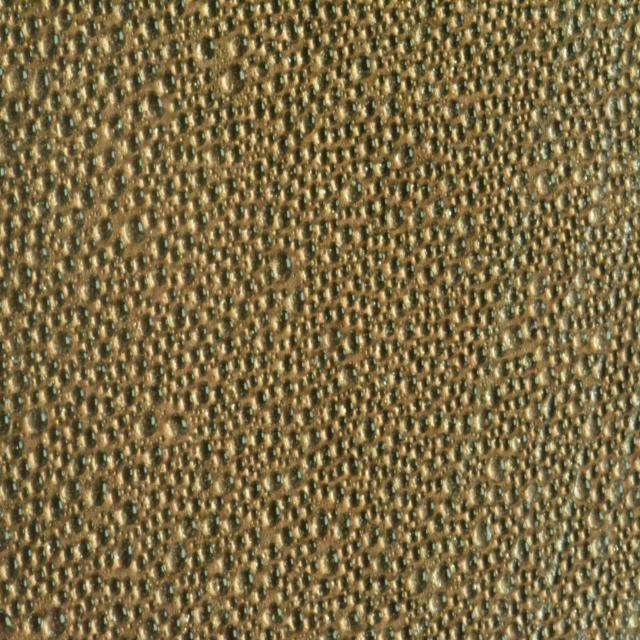dr: (222, 63, 247, 94), (28, 406, 50, 436), (235, 568, 255, 600), (124, 215, 146, 244), (432, 561, 453, 590), (169, 542, 188, 574), (320, 545, 340, 575), (43, 26, 61, 59), (312, 507, 330, 540), (274, 250, 292, 283), (9, 64, 30, 92), (409, 565, 429, 594), (574, 469, 592, 501), (91, 476, 110, 506), (48, 606, 67, 636), (489, 452, 506, 484), (8, 288, 26, 318), (120, 499, 140, 526), (474, 518, 492, 548), (504, 323, 524, 350), (537, 168, 556, 196), (593, 325, 612, 352), (34, 69, 50, 101), (49, 491, 65, 523), (117, 537, 133, 569), (586, 407, 602, 439), (148, 90, 165, 120), (289, 285, 306, 315), (523, 482, 545, 505), (110, 168, 128, 196), (398, 142, 416, 170), (0, 607, 15, 640), (233, 375, 252, 401), (340, 362, 359, 388), (108, 25, 126, 52), (106, 113, 124, 140), (266, 601, 284, 628), (354, 52, 372, 79), (264, 470, 284, 494), (85, 274, 102, 302), (53, 330, 72, 355), (64, 475, 83, 500), (28, 609, 47, 634), (103, 62, 121, 88), (181, 514, 199, 540), (592, 532, 610, 558), (5, 96, 21, 125), (4, 551, 20, 580), (266, 499, 282, 528), (170, 413, 190, 436), (16, 261, 33, 288), (230, 34, 249, 58), (8, 434, 26, 459), (113, 599, 131, 624), (142, 410, 158, 438), (199, 34, 215, 62), (32, 442, 49, 468), (218, 470, 235, 496), (608, 480, 625, 506), (588, 504, 605, 530), (428, 592, 448, 614), (607, 93, 622, 122), (144, 13, 160, 40), (79, 181, 95, 208), (114, 297, 130, 324), (462, 551, 480, 575), (499, 570, 517, 594), (460, 212, 478, 236), (575, 160, 591, 187), (96, 216, 113, 241), (144, 615, 161, 640), (212, 573, 229, 598), (486, 383, 503, 408), (470, 481, 487, 506), (155, 232, 170, 260), (610, 155, 629, 177), (59, 112, 75, 138), (9, 501, 25, 527), (36, 136, 53, 160), (286, 465, 303, 489), (416, 22, 433, 46), (267, 563, 282, 590), (172, 302, 187, 329), (362, 416, 377, 443), (516, 538, 531, 565), (12, 369, 28, 394), (148, 442, 164, 467), (206, 511, 222, 536), (578, 353, 594, 378), (476, 408, 494, 430), (373, 551, 391, 573), (411, 118, 425, 146), (69, 207, 86, 230), (444, 472, 461, 495), (551, 0, 568, 23), (82, 128, 98, 152), (54, 182, 70, 206), (2, 476, 18, 500), (152, 262, 168, 286), (181, 262, 197, 286), (232, 431, 248, 455), (344, 608, 360, 632), (365, 524, 381, 548), (618, 90, 634, 114), (616, 457, 632, 481), (589, 204, 608, 224), (162, 68, 176, 95), (286, 16, 300, 43), (538, 365, 556, 386), (25, 15, 40, 40), (26, 517, 41, 542), (47, 533, 62, 558), (72, 451, 87, 476), (94, 610, 109, 635), (140, 312, 155, 337), (3, 191, 18, 216), (346, 330, 361, 355), (452, 235, 467, 260), (209, 144, 226, 166), (598, 2, 615, 24), (82, 153, 98, 176), (248, 249, 264, 272), (180, 230, 196, 253), (448, 262, 464, 285), (526, 397, 542, 420), (74, 29, 88, 55), (24, 118, 37, 146), (83, 424, 97, 450), (275, 306, 289, 332), (277, 204, 291, 230), (545, 392, 558, 420), (558, 186, 572, 212), (126, 130, 141, 154), (36, 196, 51, 220), (94, 447, 109, 471), (196, 440, 214, 460), (167, 614, 182, 638), (181, 389, 196, 413), (336, 514, 351, 538), (347, 178, 362, 202), (421, 497, 436, 521), (467, 248, 482, 272), (488, 280, 503, 304), (32, 243, 49, 264), (68, 512, 85, 533), (419, 265, 436, 286), (10, 25, 26, 47), (150, 384, 166, 406), (472, 345, 488, 367), (505, 484, 521, 506), (96, 522, 110, 547), (390, 204, 404, 229), (464, 105, 478, 130), (58, 8, 73, 31), (143, 61, 158, 84), (102, 146, 117, 169), (159, 581, 174, 604), (199, 600, 214, 623), (431, 197, 446, 220), (440, 222, 455, 245), (581, 47, 596, 70), (442, 174, 459, 194), (592, 183, 609, 203), (118, 0, 134, 21), (40, 109, 54, 133), (66, 233, 82, 254), (30, 470, 44, 494), (94, 360, 108, 384), (201, 540, 215, 564), (199, 468, 213, 492), (196, 380, 210, 404), (290, 606, 304, 630), (204, 182, 220, 203), (261, 203, 275, 227), (384, 479, 398, 503), (506, 53, 520, 77), (476, 597, 492, 618), (534, 102, 550, 123), (525, 316, 539, 340), (597, 353, 609, 381), (604, 417, 620, 438), (576, 269, 592, 290), (149, 140, 164, 162), (10, 392, 25, 414), (221, 550, 236, 572), (240, 404, 255, 426), (193, 166, 208, 188), (174, 112, 189, 134), (372, 269, 387, 291), (386, 599, 401, 621), (422, 539, 437, 561), (362, 96, 377, 118), (342, 100, 357, 122), (316, 69, 331, 91), (322, 0, 337, 22), (419, 78, 434, 100), (442, 496, 457, 518), (536, 30, 551, 52), (558, 254, 573, 276), (581, 137, 596, 159), (567, 15, 582, 37), (49, 88, 63, 111), (54, 149, 68, 172), (41, 168, 55, 191), (48, 266, 62, 289), (36, 321, 50, 344), (135, 355, 149, 378), (404, 372, 418, 395), (431, 407, 445, 430), (388, 70, 402, 93), (610, 286, 624, 309), (60, 254, 76, 274), (151, 559, 167, 579), (326, 327, 342, 347), (507, 620, 523, 640), (549, 120, 565, 140), (562, 345, 578, 365), (29, 497, 45, 517), (43, 382, 58, 403), (136, 578, 151, 599), (235, 299, 250, 320), (396, 180, 411, 201), (446, 99, 461, 120), (463, 579, 478, 600), (532, 275, 547, 296), (578, 540, 593, 561), (15, 231, 28, 255), (9, 597, 22, 621), (109, 572, 122, 596), (217, 358, 230, 382), (515, 429, 528, 453), (560, 155, 573, 179), (1, 580, 13, 606), (129, 100, 143, 122), (17, 181, 31, 203), (102, 395, 116, 417), (69, 418, 83, 440), (152, 362, 166, 384), (2, 216, 16, 238), (194, 284, 208, 306), (320, 45, 334, 67), (327, 241, 341, 263), (346, 454, 360, 476), (375, 338, 389, 360), (401, 319, 415, 341), (383, 528, 397, 550), (440, 318, 454, 340), (458, 414, 472, 436), (482, 304, 496, 326), (527, 508, 541, 530), (622, 45, 636, 67), (16, 572, 30, 594), (560, 365, 576, 384), (97, 340, 112, 360), (226, 513, 241, 533), (452, 439, 464, 464), (478, 264, 493, 284), (544, 480, 559, 500), (488, 484, 503, 504), (615, 612, 630, 632), (112, 446, 125, 469), (192, 104, 205, 127), (303, 111, 316, 134), (549, 563, 562, 586), (625, 433, 638, 456), (74, 578, 88, 599), (268, 426, 282, 447), (218, 267, 232, 288), (264, 288, 278, 309), (272, 72, 286, 93), (412, 205, 426, 226), (407, 287, 421, 308), (456, 304, 470, 325), (450, 535, 464, 556), (434, 255, 448, 276), (524, 146, 538, 167), (578, 566, 592, 587), (77, 303, 89, 327), (465, 382, 477, 406), (535, 343, 551, 361), (84, 78, 97, 100), (112, 84, 125, 106), (103, 548, 116, 570), (248, 526, 261, 548), (163, 12, 176, 34), (227, 120, 240, 142), (369, 296, 382, 318), (402, 34, 415, 56), (559, 614, 572, 636), (206, 0, 221, 19), (362, 621, 377, 640), (378, 625, 397, 640), (385, 98, 400, 117), (567, 290, 582, 309), (609, 24, 624, 43), (610, 41, 625, 60), (95, 248, 109, 268), (132, 186, 146, 206), (206, 401, 220, 421), (300, 406, 314, 426), (221, 316, 235, 336), (290, 146, 304, 166), (340, 223, 354, 243), (455, 76, 469, 96), (410, 228, 424, 248), (440, 296, 454, 316), (432, 337, 446, 357), (376, 574, 390, 594), (496, 598, 510, 618), (483, 132, 497, 152), (542, 80, 556, 100), (496, 358, 510, 378), (562, 310, 576, 330), (581, 3, 595, 23), (626, 488, 640, 508), (626, 172, 640, 192), (87, 393, 99, 416), (78, 536, 90, 559), (124, 383, 136, 406), (270, 401, 282, 424), (254, 97, 266, 120), (540, 600, 552, 623), (537, 440, 549, 463), (579, 443, 591, 466), (48, 425, 61, 446), (1, 239, 14, 260), (261, 329, 274, 350), (309, 387, 322, 408), (326, 399, 339, 420), (195, 211, 208, 232), (177, 167, 190, 188), (625, 22, 638, 43), (287, 430, 302, 448), (389, 430, 404, 448), (500, 304, 515, 322), (532, 299, 547, 317), (522, 352, 537, 370), (5, 139, 19, 158), (18, 207, 32, 226), (33, 223, 47, 242), (44, 358, 58, 377), (118, 328, 132, 347), (112, 238, 126, 257), (55, 586, 69, 605), (307, 427, 321, 446), (256, 59, 270, 78), (241, 1, 255, 20), (328, 86, 342, 105), (354, 2, 368, 21), (592, 483, 606, 502), (601, 456, 615, 475), (536, 4, 550, 23), (620, 509, 634, 528), (34, 545, 48, 564), (132, 154, 144, 176), (90, 572, 102, 594), (189, 344, 201, 366), (334, 482, 346, 504), (394, 296, 406, 318), (438, 21, 450, 43), (360, 547, 372, 569), (518, 166, 530, 188), (20, 544, 32, 566), (23, 347, 36, 367), (122, 464, 135, 484), (222, 336, 235, 356), (162, 178, 175, 198), (171, 142, 184, 162), (363, 134, 376, 154), (418, 414, 431, 434), (453, 122, 466, 142), (461, 147, 474, 167), (428, 222, 441, 242), (491, 546, 504, 566), (454, 620, 467, 640), (479, 435, 492, 455), (516, 584, 529, 604), (542, 140, 555, 160), (522, 187, 535, 207), (599, 163, 612, 183), (565, 498, 578, 518), (223, 623, 239, 639), (436, 81, 451, 98), (569, 398, 584, 415), (10, 332, 22, 353), (280, 526, 294, 544), (266, 542, 280, 560), (241, 280, 255, 298), (167, 39, 181, 57), (384, 317, 396, 338), (424, 458, 438, 476), (380, 157, 392, 178), (468, 22, 482, 40), (1, 526, 11, 551), (105, 197, 118, 216), (76, 348, 89, 367), (255, 390, 268, 409), (387, 122, 400, 141), (403, 261, 416, 280), (456, 352, 469, 371), (464, 188, 477, 207), (610, 59, 623, 78), (559, 385, 572, 404), (72, 603, 85, 622), (131, 71, 142, 93), (320, 444, 331, 466), (463, 42, 474, 64), (69, 88, 81, 108), (135, 252, 147, 272), (150, 528, 162, 548), (234, 532, 246, 552), (215, 450, 230, 466), (281, 354, 293, 374), (282, 378, 294, 398), (196, 323, 208, 343), (197, 564, 209, 584), (178, 588, 190, 608), (298, 518, 310, 538), (277, 134, 289, 154), (319, 146, 331, 166), (364, 199, 376, 219), (371, 248, 383, 268), (476, 288, 488, 308), (532, 546, 544, 566), (512, 27, 524, 47), (620, 116, 635, 132), (624, 136, 636, 156), (618, 189, 630, 209), (54, 466, 66, 486), (216, 607, 230, 624), (268, 181, 282, 198), (495, 500, 509, 517), (538, 465, 552, 482), (492, 341, 506, 358), (621, 72, 635, 89), (609, 208, 623, 225), (52, 211, 65, 229), (234, 456, 247, 474), (225, 177, 238, 195), (362, 597, 375, 615), (394, 555, 407, 573), (398, 471, 411, 489), (414, 59, 427, 77), (432, 64, 445, 82), (428, 136, 441, 154), (423, 0, 436, 18), (518, 270, 531, 288), (627, 322, 640, 340), (147, 207, 158, 228), (560, 532, 571, 553), (424, 158, 434, 181), (23, 46, 35, 65), (44, 576, 56, 595), (283, 554, 295, 573), (203, 342, 215, 361), (318, 577, 330, 596), (164, 214, 176, 233), (304, 241, 316, 260), (232, 145, 244, 164), (253, 161, 265, 180), (300, 46, 312, 65), (302, 220, 314, 239), (329, 281, 341, 300), (358, 223, 370, 242), (361, 328, 373, 347), (317, 349, 329, 368), (404, 414, 416, 433), (327, 27, 339, 46), (433, 513, 445, 532), (505, 415, 517, 434), (498, 516, 510, 535), (513, 143, 525, 162), (565, 42, 577, 61), (592, 384, 604, 403), (612, 537, 624, 556), (589, 87, 603, 103), (419, 319, 432, 336), (458, 518, 471, 535), (525, 210, 538, 227), (616, 6, 629, 23), (72, 57, 82, 79), (0, 118, 10, 140), (64, 401, 75, 421), (250, 480, 261, 500), (237, 602, 248, 622), (205, 245, 216, 265), (244, 352, 255, 372), (306, 84, 317, 104), (363, 158, 374, 178), (343, 398, 354, 418), (349, 488, 360, 508), (476, 174, 487, 194), (480, 112, 490, 134), (492, 113, 503, 133), (481, 551, 492, 571), (509, 598, 520, 618), (496, 257, 507, 277), (527, 373, 538, 393), (624, 342, 635, 362), (630, 410, 640, 432), (583, 610, 594, 630), (520, 607, 531, 627), (40, 294, 52, 312), (63, 306, 75, 324), (28, 388, 40, 406), (18, 485, 30, 503), (106, 426, 118, 444), (148, 489, 160, 507), (254, 427, 266, 445), (188, 308, 200, 326), (258, 310, 270, 328), (282, 92, 294, 110), (295, 97, 307, 115), (296, 193, 308, 211), (335, 344, 347, 362), (366, 354, 378, 372), (389, 256, 401, 274), (445, 414, 457, 432), (438, 536, 450, 554), (544, 524, 556, 542), (530, 124, 542, 142), (490, 60, 502, 78), (500, 77, 512, 95), (563, 87, 575, 105), (504, 376, 516, 394), (560, 65, 572, 83), (572, 378, 584, 396), (587, 22, 599, 40), (555, 585, 567, 603), (579, 588, 591, 606), (78, 102, 90, 120), (58, 564, 68, 585), (542, 421, 552, 442), (86, 18, 97, 37), (137, 462, 148, 481), (308, 0, 319, 19), (388, 32, 399, 51), (421, 287, 432, 306), (482, 207, 493, 226), (546, 620, 557, 639), (552, 503, 563, 522), (552, 328, 563, 347), (537, 198, 548, 217), (603, 132, 614, 151), (137, 273, 148, 292), (69, 171, 80, 190), (91, 0, 104, 16), (190, 496, 203, 512), (400, 624, 413, 640), (439, 433, 452, 449), (550, 436, 563, 452), (7, 48, 19, 65), (13, 160, 25, 177), (131, 291, 143, 308), (54, 290, 66, 307), (34, 567, 46, 584), (306, 452, 318, 469), (222, 294, 234, 311), (206, 421, 218, 438), (306, 479, 318, 496), (202, 67, 214, 84), (246, 18, 258, 35), (264, 37, 276, 54), (292, 129, 304, 146), (334, 174, 346, 191), (334, 146, 346, 163), (375, 440, 387, 457), (339, 0, 351, 17), (453, 11, 465, 28), (477, 233, 489, 250), (486, 567, 498, 584), (550, 211, 562, 228), (592, 277, 604, 294), (523, 5, 535, 22), (566, 592, 578, 609), (417, 616, 429, 633), (96, 93, 108, 110), (307, 611, 317, 631), (248, 322, 258, 342), (352, 272, 362, 292), (335, 438, 345, 458), (373, 176, 383, 196), (514, 207, 524, 227), (619, 302, 629, 322), (0, 22, 9, 44), (127, 49, 138, 67), (85, 59, 96, 77), (66, 358, 77, 376), (136, 554, 147, 572), (123, 576, 134, 594), (358, 509, 369, 527), (263, 267, 274, 285), (261, 232, 272, 250), (283, 182, 294, 200), (233, 202, 244, 220), (318, 218, 329, 236), (414, 442, 425, 460), (343, 72, 354, 90), (555, 419, 566, 437), (615, 333, 626, 351), (597, 221, 608, 239), (554, 26, 565, 44), (592, 578, 603, 596), (82, 253, 93, 271), (71, 560, 82, 578), (63, 543, 74, 561), (429, 386, 442, 401), (562, 518, 575, 533), (56, 56, 68, 72), (296, 490, 308, 506), (233, 266, 245, 282), (280, 232, 292, 248), (178, 190, 190, 206), (190, 76, 202, 92), (247, 202, 259, 218), (368, 382, 380, 398), (377, 212, 389, 228), (461, 172, 473, 188), (490, 228, 502, 244), (558, 140, 570, 156), (608, 508, 620, 524), (110, 381, 120, 400), (238, 329, 248, 348), (185, 144, 195, 163), (390, 6, 400, 25), (450, 31, 460, 50), (564, 553, 574, 572), (522, 79, 532, 98), (588, 252, 598, 271), (623, 395, 633, 414), (600, 596, 610, 615), (27, 311, 38, 328), (23, 598, 34, 615), (177, 494, 188, 511), (258, 352, 269, 369), (213, 384, 224, 401), (164, 332, 175, 349), (151, 338, 162, 355), (164, 485, 175, 502), (337, 593, 348, 610), (311, 333, 322, 350), (246, 223, 257, 240), (175, 0, 186, 17), (191, 10, 202, 27), (186, 57, 197, 74), (195, 129, 206, 146), (244, 118, 255, 135), (225, 15, 236, 32), (287, 51, 298, 68), (388, 388, 399, 405), (389, 448, 400, 465), (391, 509, 402, 526), (363, 574, 374, 591), (411, 545, 422, 562), (432, 476, 443, 493), (354, 82, 365, 99), (369, 36, 380, 53), (421, 183, 432, 200), (442, 1, 453, 18), (397, 275, 408, 292), (428, 355, 439, 372), (509, 454, 520, 471), (504, 225, 515, 242), (577, 116, 588, 133), (609, 396, 620, 413), (550, 44, 561, 61), (22, 94, 32, 112), (128, 440, 140, 455), (162, 505, 172, 523), (303, 19, 313, 37), (307, 142, 317, 160), (318, 126, 328, 144), (335, 304, 345, 322), (354, 566, 364, 584), (374, 7, 384, 25), (494, 1, 504, 19), (485, 30, 494, 50), (468, 288, 477, 308), (478, 94, 488, 112), (510, 114, 520, 132), (518, 229, 528, 247), (549, 230, 559, 248), (556, 296, 566, 314), (604, 439, 614, 457), (588, 225, 598, 243), (630, 293, 640, 311), (504, 13, 514, 31), (578, 194, 590, 209), (570, 576, 580, 594), (546, 541, 558, 556), (66, 280, 77, 296), (111, 486, 122, 502), (133, 604, 144, 620), (301, 572, 312, 588), (330, 377, 341, 393), (170, 246, 181, 262), (155, 123, 166, 139), (255, 81, 266, 97), (360, 257, 371, 273), (358, 294, 369, 310), (316, 288, 327, 304), (407, 345, 418, 361), (368, 463, 379, 479), (351, 538, 362, 554), (372, 608, 383, 624), (422, 304, 433, 320), (490, 613, 501, 629), (479, 50, 490, 66), (503, 243, 514, 259), (544, 250, 555, 266), (546, 311, 557, 327), (557, 458, 568, 474), (625, 217, 636, 233), (581, 298, 592, 314), (140, 45, 151, 61), (502, 96, 511, 115), (143, 124, 153, 141), (176, 353, 186, 370), (215, 495, 225, 512), (298, 590, 308, 607), (305, 265, 315, 282), (226, 103, 236, 120), (212, 22, 222, 39), (268, 104, 278, 121), (253, 183, 263, 200), (331, 126, 341, 143), (323, 181, 333, 198), (344, 121, 354, 138), (323, 306, 333, 323), (348, 309, 358, 326), (374, 116, 384, 133), (400, 490, 410, 507), (414, 472, 424, 489), (381, 230, 391, 247), (445, 344, 455, 361), (525, 247, 535, 264), (572, 424, 582, 441), (621, 364, 631, 381), (620, 247, 630, 264), (465, 609, 475, 626), (123, 257, 133, 274), (92, 110, 102, 127), (406, 507, 418, 521), (173, 468, 184, 483), (295, 359, 306, 374), (394, 574, 405, 589), (508, 287, 519, 302), (485, 79, 496, 94), (532, 72, 543, 87), (609, 77, 620, 92), (590, 64, 601, 79), (568, 216, 579, 231), (601, 118, 612, 133), (482, 326, 493, 341), (447, 205, 458, 220), (365, 22, 374, 40), (490, 93, 499, 111), (513, 252, 522, 270), (612, 592, 621, 610), (32, 102, 42, 118), (150, 187, 160, 203), (230, 498, 240, 514), (159, 316, 169, 332), (162, 350, 172, 366), (218, 421, 228, 437), (186, 570, 196, 586), (257, 585, 267, 601), (254, 556, 264, 572), (340, 574, 350, 590), (192, 586, 202, 602), (319, 270, 329, 286), (391, 338, 401, 354), (392, 368, 402, 384), (416, 357, 426, 373), (352, 590, 362, 606), (409, 527, 419, 543), (394, 232, 404, 248), (404, 76, 414, 92), (462, 458, 472, 474), (473, 76, 483, 92), (488, 583, 498, 599), (518, 470, 528, 486), (503, 199, 513, 215), (549, 283, 559, 299), (540, 324, 550, 340), (513, 356, 523, 372), (572, 74, 582, 90), (512, 395, 522, 411), (614, 559, 624, 575), (537, 576, 547, 592), (470, 325, 480, 341), (118, 278, 128, 294), (72, 0, 83, 14), (174, 59, 185, 73), (272, 50, 283, 64), (516, 520, 527, 534), (511, 558, 522, 572), (562, 330, 573, 344), (615, 174, 626, 188), (346, 290, 355, 307), (438, 371, 447, 388), (590, 462, 599, 479), (615, 138, 624, 155), (436, 615, 445, 632), (536, 623, 545, 640), (91, 326, 101, 341), (118, 413, 128, 428), (168, 443, 178, 458), (206, 306, 216, 321), (181, 451, 191, 466), (266, 447, 276, 462), (290, 506, 300, 521), (220, 246, 230, 261), (361, 313, 371, 328), (296, 378, 306, 393), (381, 409, 391, 424), (412, 398, 422, 413), (364, 490, 374, 505), (521, 64, 531, 79), (496, 213, 506, 228), (496, 174, 506, 189), (558, 105, 568, 120), (584, 102, 594, 117), (430, 36, 440, 51), (457, 328, 467, 343), (100, 293, 110, 308), (404, 597, 414, 612), (91, 43, 100, 59), (31, 164, 40, 180), (93, 555, 102, 571), (325, 424, 334, 440), (321, 483, 330, 499), (300, 320, 309, 336), (290, 318, 299, 334), (254, 34, 263, 50), (274, 20, 283, 36), (255, 127, 264, 143), (399, 57, 408, 73), (448, 381, 457, 397), (543, 510, 552, 526), (531, 530, 540, 546), (568, 114, 577, 130), (546, 60, 555, 76), (601, 297, 610, 313), (584, 313, 593, 329), (597, 562, 606, 578), (158, 608, 168, 622), (174, 375, 184, 389), (154, 300, 164, 314), (187, 469, 197, 483), (241, 502, 251, 516), (307, 540, 317, 554), (327, 610, 337, 624), (288, 334, 298, 348), (212, 226, 222, 240), (272, 0, 282, 14), (309, 184, 319, 198), (348, 145, 358, 159), (330, 198, 340, 212), (329, 218, 339, 232), (338, 416, 348, 430), (365, 398, 375, 412), (356, 444, 366, 458), (410, 493, 420, 507), (396, 402, 406, 416), (440, 451, 450, 465), (422, 341, 432, 355), (334, 462, 344, 476), (504, 537, 514, 551), (516, 302, 526, 316), (558, 406, 568, 420), (615, 380, 625, 394), (600, 54, 610, 68), (11, 11, 21, 25), (264, 13, 272, 30), (267, 152, 275, 169), (131, 15, 140, 30), (111, 624, 120, 639), (198, 362, 207, 377), (308, 299, 317, 314), (233, 226, 242, 241), (217, 202, 226, 217), (340, 263, 349, 278), (410, 456, 419, 471), (381, 463, 390, 478), (375, 55, 384, 70), (458, 378, 467, 393), (502, 151, 511, 166), (548, 451, 557, 466), (409, 101, 418, 116), (569, 138, 580, 150), (594, 436, 605, 448), (376, 135, 386, 148), (503, 41, 513, 54), (518, 97, 528, 110), (563, 442, 573, 455), (596, 105, 606, 118), (468, 273, 478, 286), (232, 356, 240, 372), (282, 493, 290, 509), (214, 108, 222, 124), (610, 252, 618, 268), (503, 436, 511, 452), (231, 416, 240, 430), (281, 588, 290, 602), (344, 558, 353, 572), (291, 577, 300, 591), (275, 161, 284, 175), (223, 216, 232, 230), (358, 121, 367, 135), (384, 286, 393, 300), (401, 454, 410, 468), (521, 49, 530, 63), (512, 192, 521, 206), (611, 361, 620, 375), (499, 27, 508, 41), (628, 576, 637, 590), (96, 172, 105, 186), (177, 336, 185, 351), (149, 469, 157, 484), (260, 372, 270, 384), (310, 315, 318, 330), (172, 98, 182, 110), (328, 113, 338, 125), (356, 389, 364, 404), (370, 504, 378, 519), (421, 525, 429, 540), (483, 10, 491, 25), (450, 146, 458, 161), (542, 223, 550, 238), (589, 117, 599, 129), (108, 258, 116, 273), (171, 392, 180, 405), (316, 467, 325, 480), (297, 70, 306, 83), (307, 283, 316, 296), (388, 182, 397, 195), (386, 141, 395, 154), (422, 104, 431, 117), (530, 568, 539, 581), (482, 153, 491, 166), (504, 184, 513, 197), (438, 50, 447, 63), (403, 6, 412, 19), (105, 0, 113, 14), (250, 506, 258, 520), (269, 384, 277, 398), (184, 14, 192, 28), (267, 132, 275, 146), (287, 69, 295, 83), (371, 232, 379, 246), (452, 363, 459, 379), (442, 140, 449, 156), (502, 128, 510, 142), (592, 160, 600, 174), (619, 429, 627, 443), (247, 54, 257, 65), (240, 474, 249, 486), (294, 544, 303, 556), (204, 272, 213, 284), (231, 254, 240, 266), (179, 88, 188, 100), (183, 29, 192, 41), (258, 1, 267, 13), (306, 372, 315, 384), (377, 74, 386, 86), (397, 22, 406, 34), (341, 544, 349, 557), (310, 560, 318, 573), (244, 139, 252, 152), (345, 206, 353, 219), (581, 332, 589, 345), (515, 5, 523, 18), (596, 36, 604, 49), (452, 593, 460, 606), (577, 518, 585, 531), (496, 424, 504, 437), (391, 416, 401, 426), (238, 190, 247, 201), (404, 442, 413, 453), (428, 447, 437, 458), (391, 275, 398, 289), (382, 20, 389, 34), (402, 122, 409, 136), (145, 296, 153, 308), (212, 294, 220, 306), (282, 575, 290, 587), (143, 174, 151, 186), (186, 96, 194, 108), (293, 238, 301, 250), (310, 168, 318, 180), (346, 249, 354, 261), (559, 240, 567, 252), (522, 392, 530, 404), (610, 228, 618, 240), (557, 474, 565, 486), (281, 288, 288, 301), (355, 206, 362, 219), (577, 316, 584, 329), (539, 55, 546, 68), (197, 424, 205, 435), (178, 75, 186, 86), (247, 548, 254, 560), (197, 150, 204, 162), (245, 177, 252, 189), (321, 168, 328, 180), (300, 557, 308, 567), (142, 0, 150, 10), (168, 132, 176, 142), (252, 603, 259, 614), (279, 339, 286, 350), (412, 181, 419, 192), (242, 242, 248, 254), (238, 105, 244, 115)
